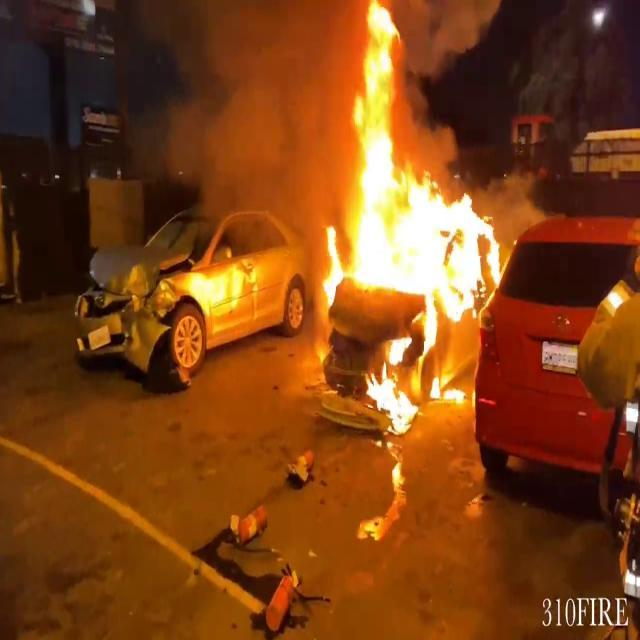Fire: (304, 165, 510, 428), (346, 0, 414, 196)
Smoke: (146, 0, 367, 231)
